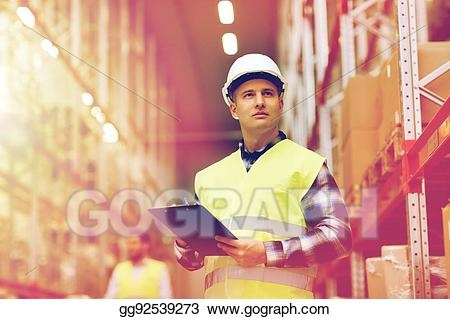helmet: (222, 55, 292, 104)
person with full safety: (194, 53, 331, 298)
person with partial safety: (107, 234, 173, 299)
safety vest: (194, 145, 321, 299), (115, 257, 165, 297)
